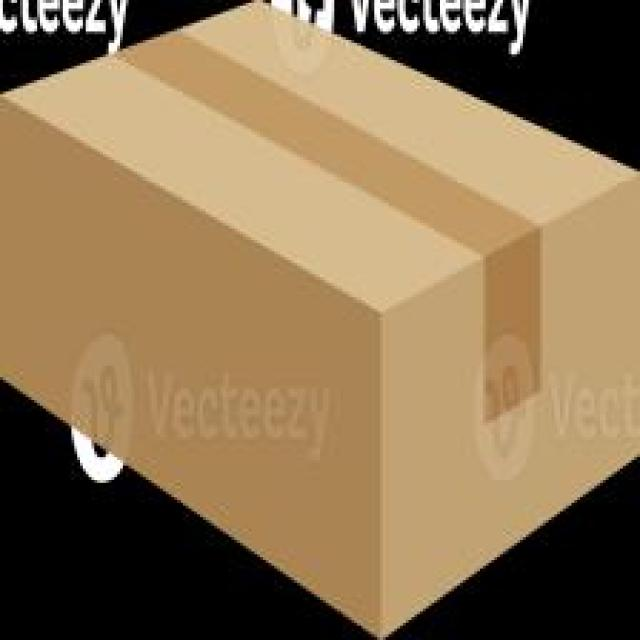box: (1, 1, 640, 638)
